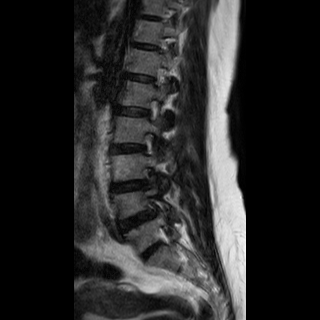LFS0: (138, 91, 168, 128), (135, 127, 165, 161)
